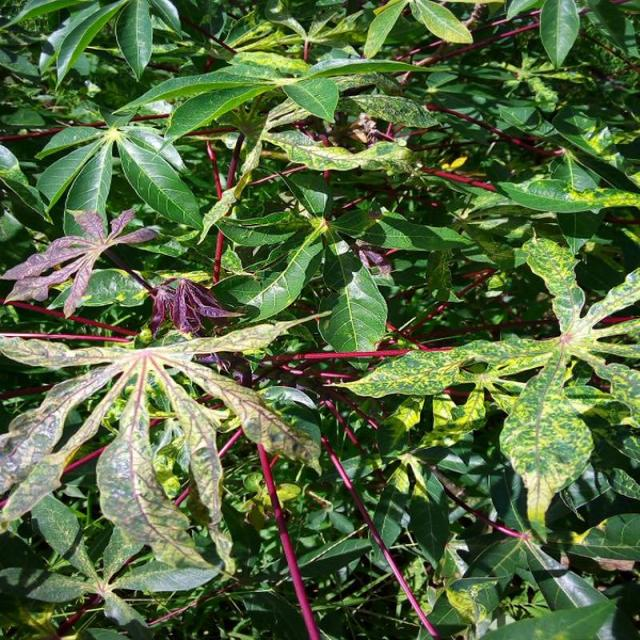cassava leaf: (0, 1, 638, 637), (0, 320, 320, 577), (498, 362, 594, 540)
